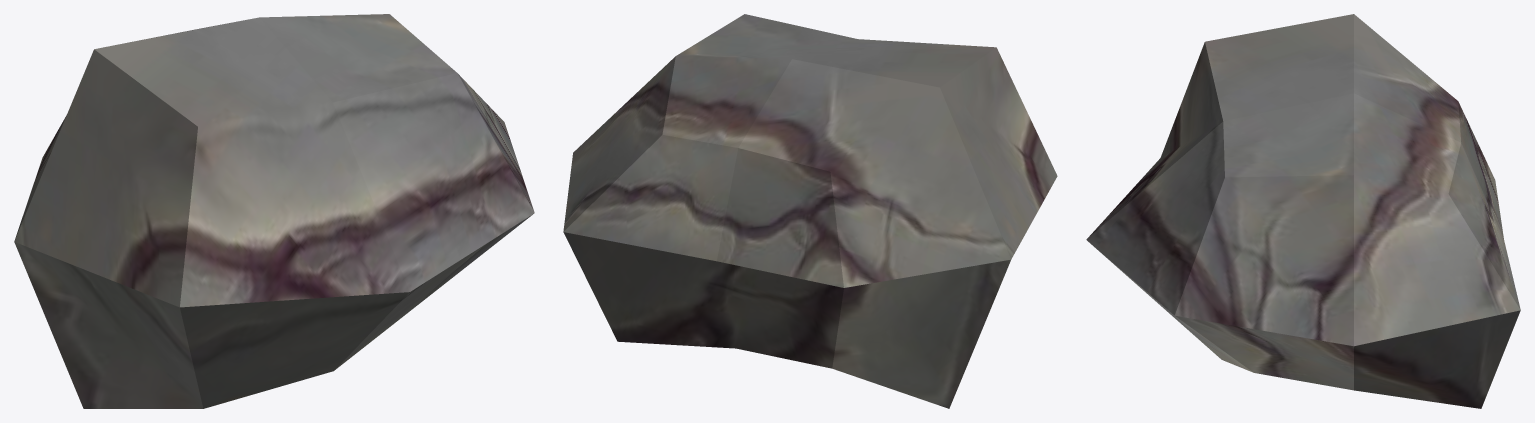
Rendered from Rock_2.fbx.
3 renders of one model, left to right at view 1: azimuth 30°, elevation 25°; view 2: azimuth 150°, elevation 25°; view 3: azimuth 270°, elevation 25°, orthographic. The views are drawn at different scales.
Visible parts, largest first — view 1: Cube; view 2: Cube; view 3: Cube.
Boxes of the visible parts, bbox=[...] form: Cube: bbox=[14, 14, 534, 408]; Cube: bbox=[563, 14, 1057, 408]; Cube: bbox=[1086, 14, 1520, 408].
Bounding box in the file's own units: 199 × 139 × 172.
